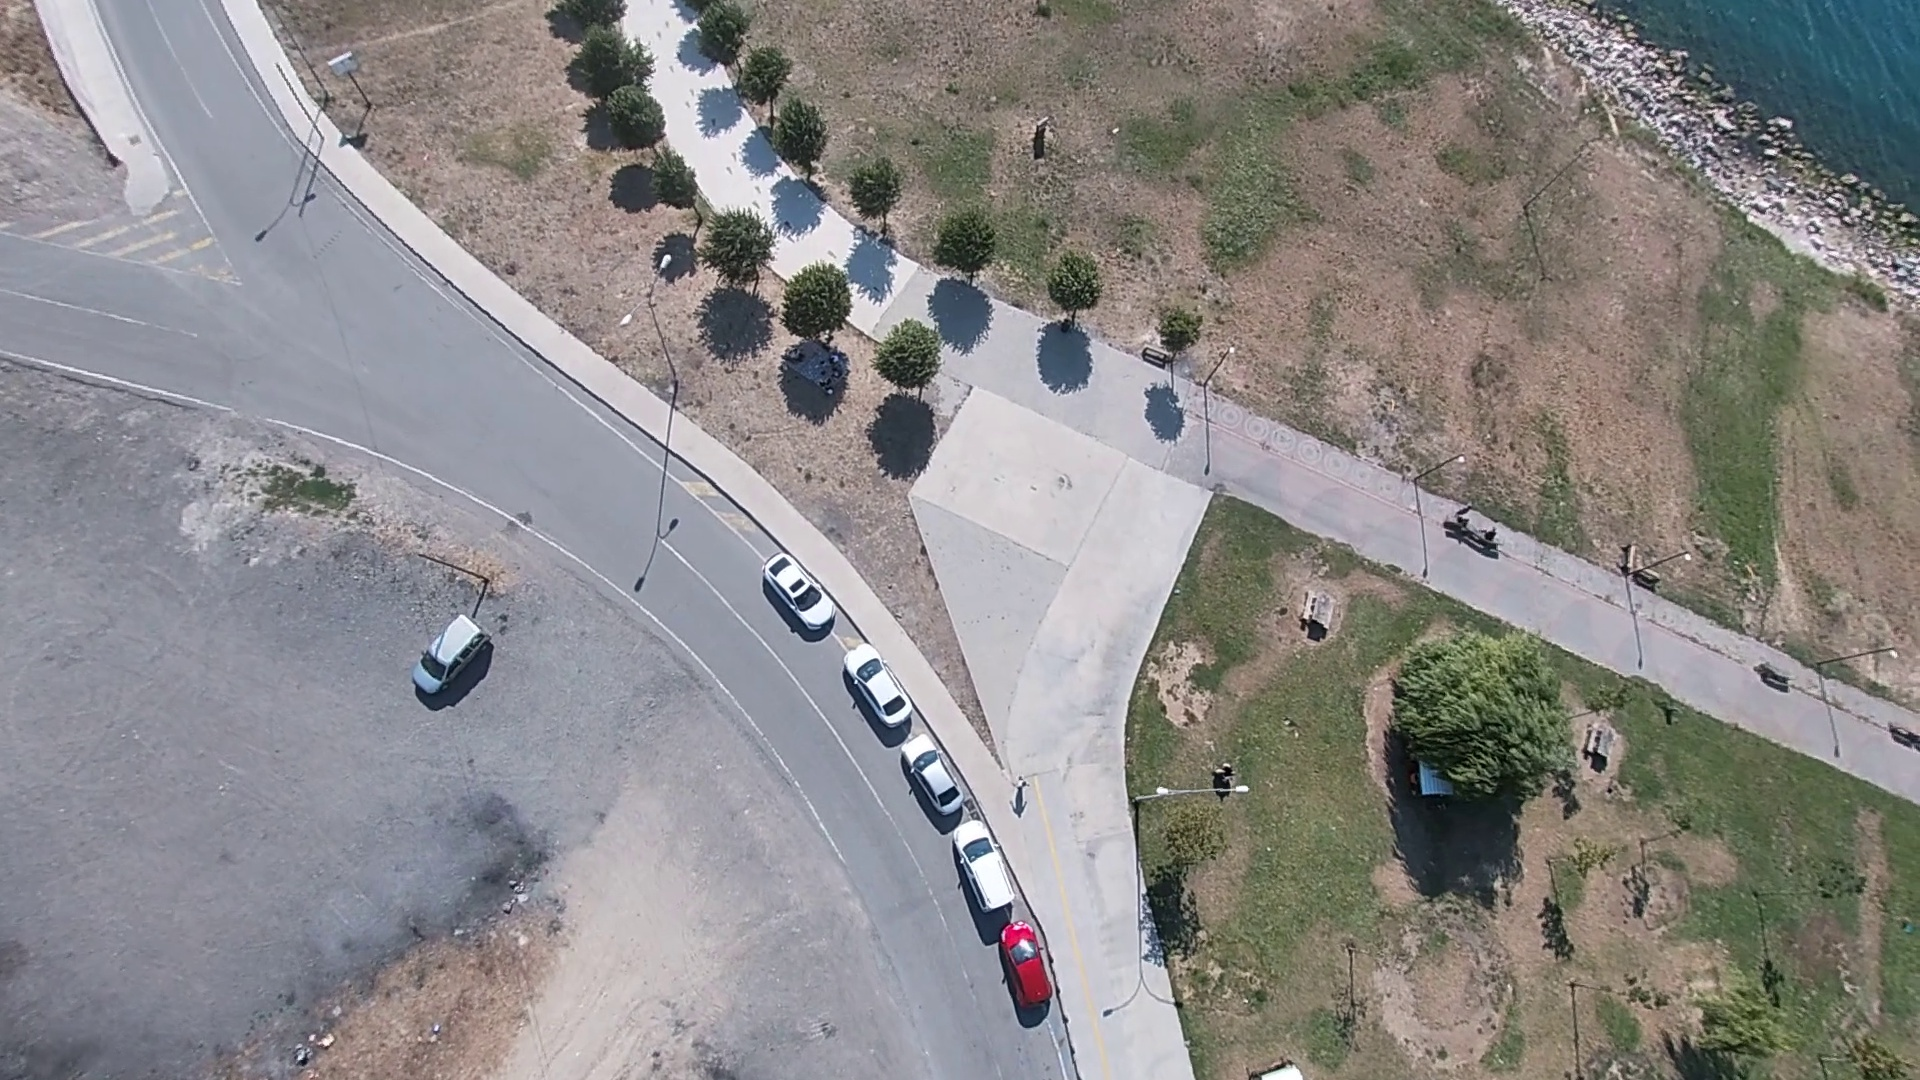arac: (898, 727, 980, 822), (945, 819, 1022, 919), (839, 644, 914, 738), (410, 617, 492, 704), (761, 549, 832, 641), (988, 920, 1055, 1015)
